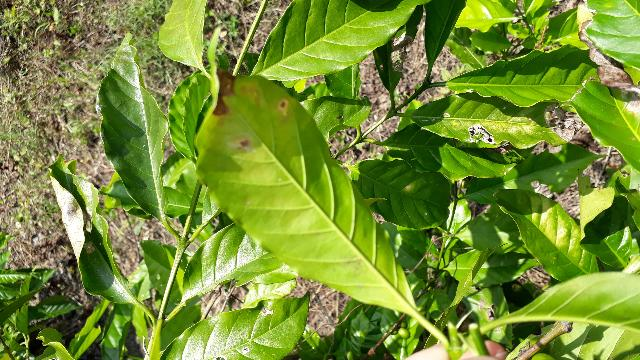red_spider_mite: (195, 21, 422, 319)
